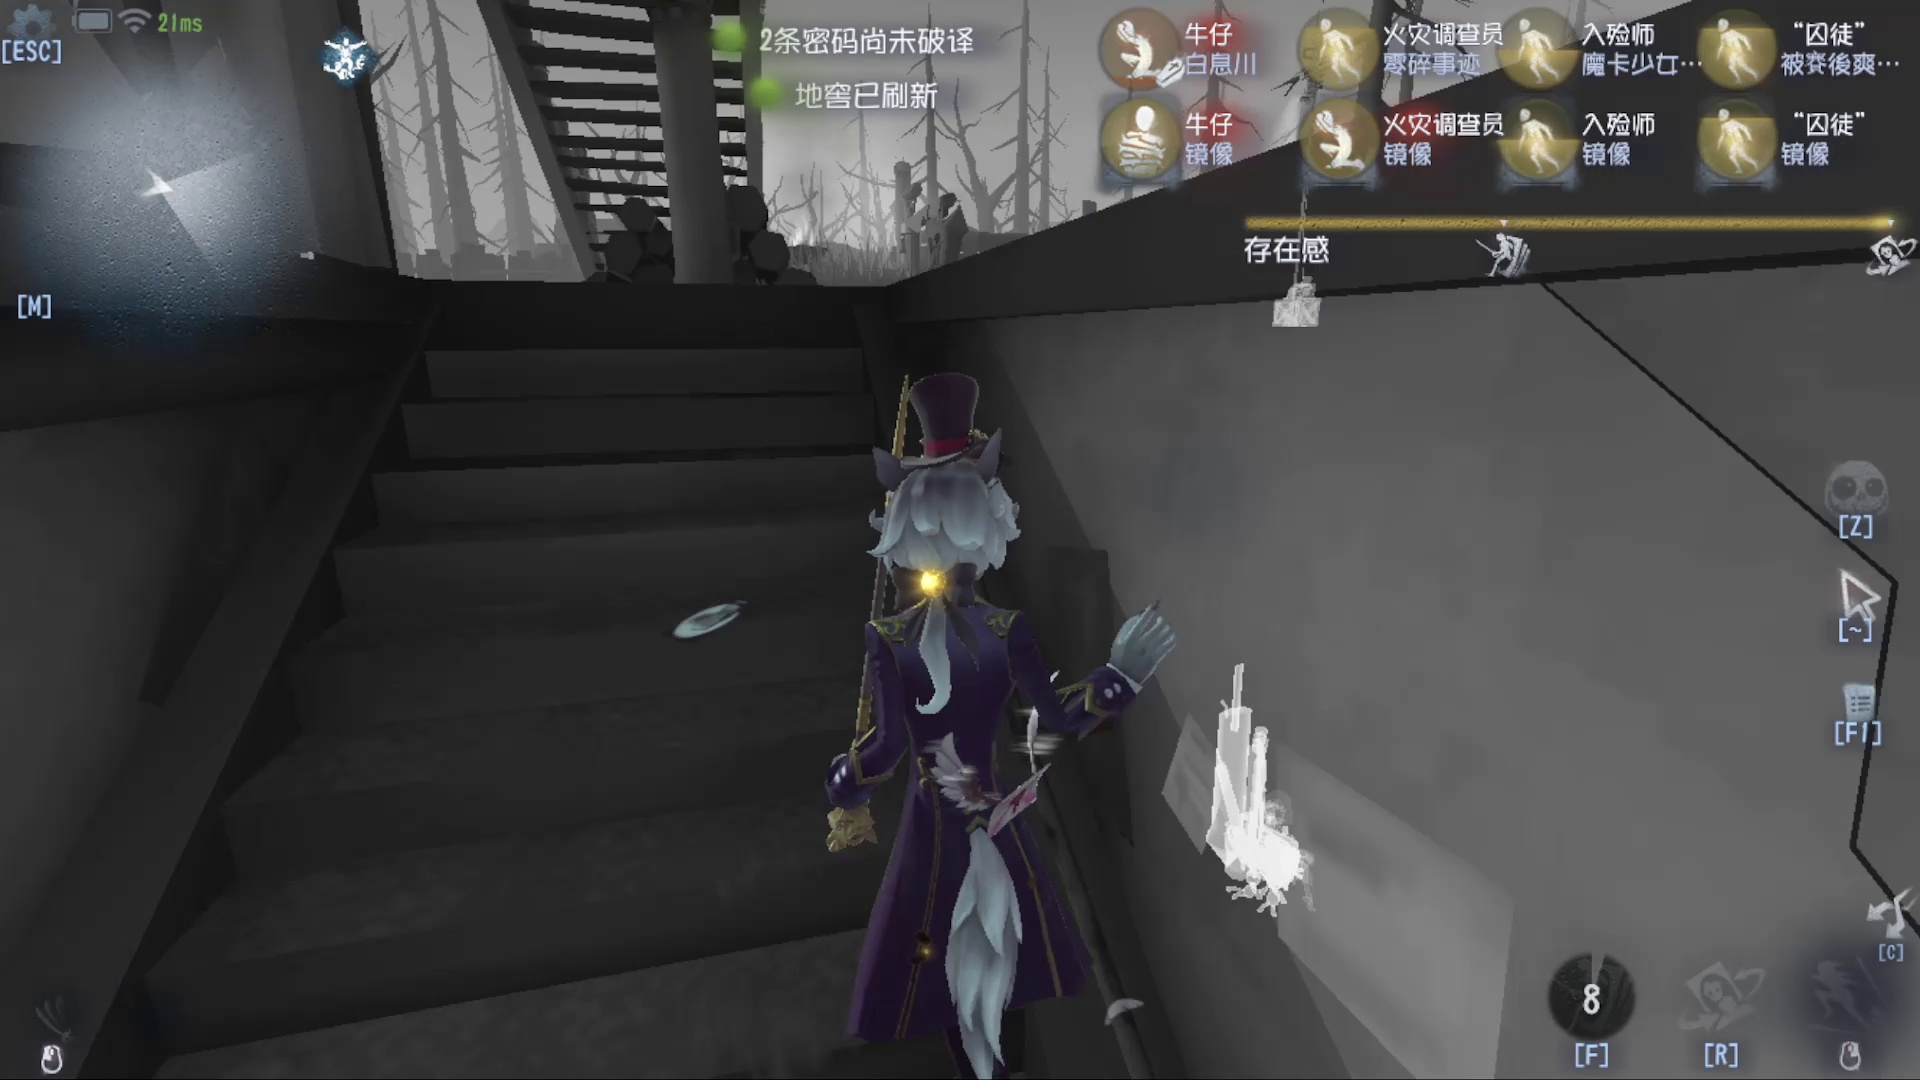密码机: (1247, 67, 1364, 373)
狂欢之椅: (1150, 640, 1344, 931)
